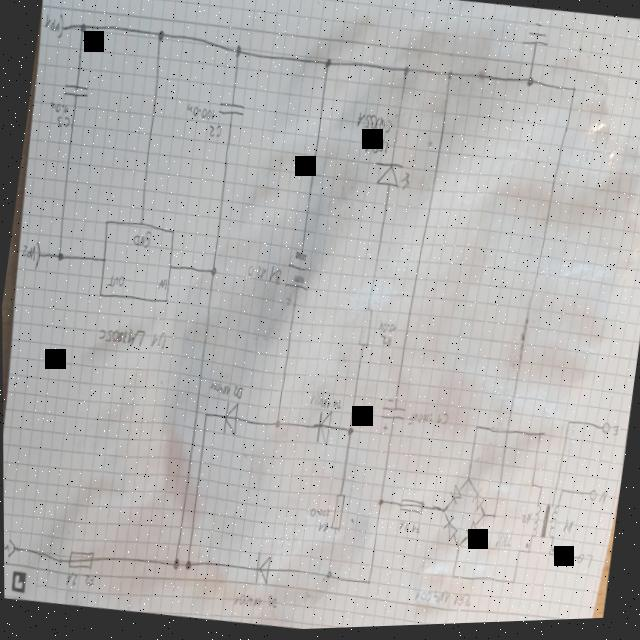capacitor: (376, 396, 408, 438), (216, 100, 246, 123), (59, 81, 90, 102)
crossover: (503, 432, 509, 441)
diode: (370, 161, 412, 197), (220, 400, 240, 440), (252, 552, 272, 591), (313, 411, 333, 449), (441, 519, 459, 546), (469, 489, 485, 515), (463, 523, 479, 547), (448, 487, 463, 510)
ground: (520, 23, 551, 54)
junction: (523, 76, 535, 94), (154, 30, 164, 45), (400, 68, 410, 83), (171, 558, 180, 574), (234, 45, 243, 60), (55, 251, 65, 264), (322, 59, 332, 72), (77, 22, 87, 35), (182, 560, 192, 573), (445, 71, 454, 85), (345, 427, 354, 440), (209, 267, 218, 280), (376, 499, 384, 511), (324, 571, 331, 583), (479, 513, 486, 525), (273, 420, 280, 431), (465, 477, 471, 489), (202, 412, 208, 421), (570, 89, 576, 98), (491, 515, 497, 524), (441, 510, 447, 519), (454, 545, 460, 554), (448, 577, 454, 584), (558, 491, 563, 499), (529, 485, 534, 493), (473, 427, 478, 435), (537, 434, 542, 442), (537, 487, 542, 495), (509, 584, 515, 590), (515, 551, 520, 558), (365, 582, 370, 588), (565, 424, 570, 430), (546, 554, 551, 560), (525, 554, 530, 560)
resistor: (355, 308, 375, 352), (328, 495, 346, 536)
source: (279, 250, 313, 312)
terminal: (30, 241, 42, 272), (54, 12, 66, 41), (4, 537, 17, 559), (599, 426, 610, 440), (586, 493, 597, 507), (575, 557, 583, 570)
text: (95, 323, 146, 352), (354, 112, 393, 140), (411, 588, 450, 612), (184, 102, 218, 124), (231, 592, 263, 613), (362, 139, 389, 160), (405, 412, 433, 432), (245, 262, 268, 285), (492, 531, 513, 555), (308, 393, 331, 414), (207, 380, 231, 400), (148, 330, 168, 353), (43, 12, 62, 35), (266, 265, 283, 289), (131, 231, 151, 251), (450, 594, 471, 613), (308, 508, 330, 524), (105, 274, 125, 291), (49, 101, 70, 117), (376, 323, 396, 339), (20, 243, 36, 263), (207, 125, 222, 141), (63, 572, 78, 588), (434, 414, 449, 430), (264, 596, 277, 614), (55, 114, 71, 128), (561, 522, 574, 539), (595, 493, 608, 510), (81, 574, 95, 589), (230, 387, 243, 403), (582, 557, 594, 574), (378, 337, 392, 351), (315, 523, 329, 537), (519, 515, 532, 528), (396, 522, 408, 536), (156, 279, 167, 294), (330, 401, 342, 414), (408, 526, 420, 539), (609, 428, 619, 443), (3, 537, 9, 553)
transformer: (523, 501, 561, 557)
